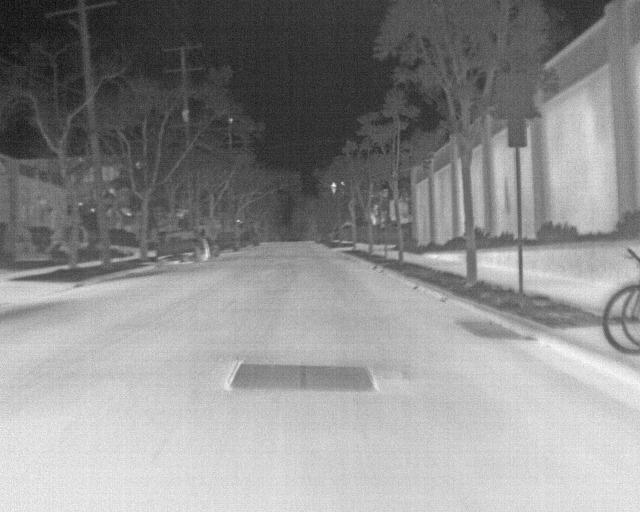bicycle: (601, 278, 638, 356)
car: (155, 227, 212, 268), (218, 229, 240, 251), (240, 229, 260, 248)
